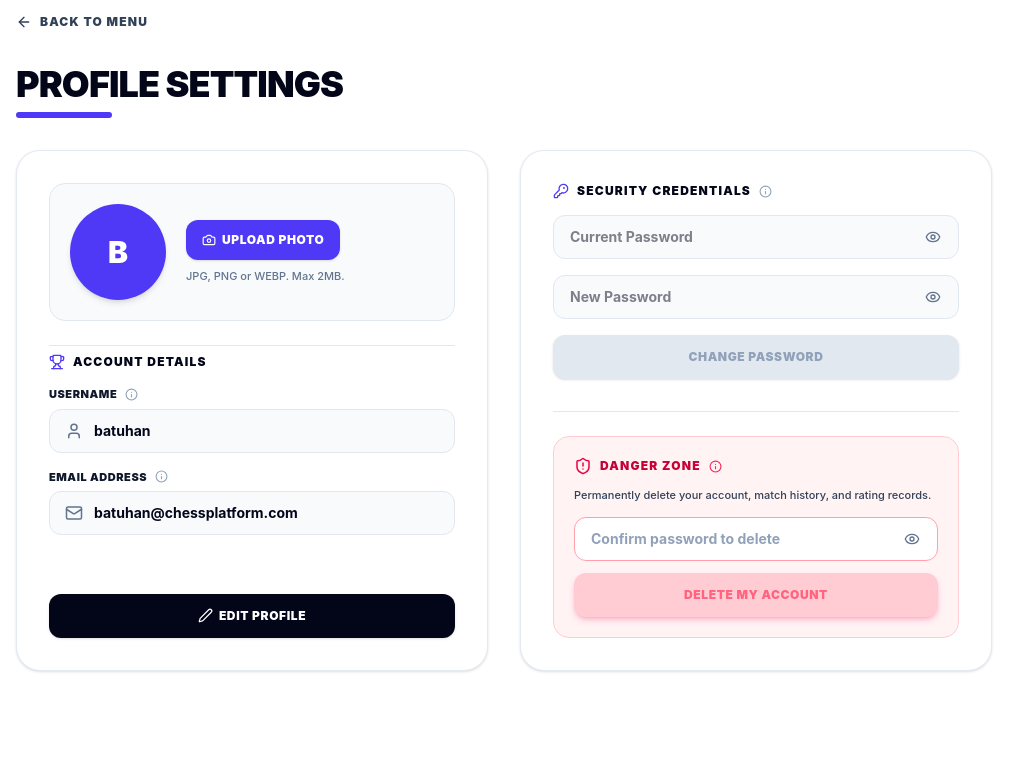
Test: ProfileDashboard Component › handles profile update failure and renders error banner
Expected: the field showing "batuhan" is shown, [49, 408, 455, 452]
Click the button "Edit Profile": [252, 616] box [49, 594, 455, 638]
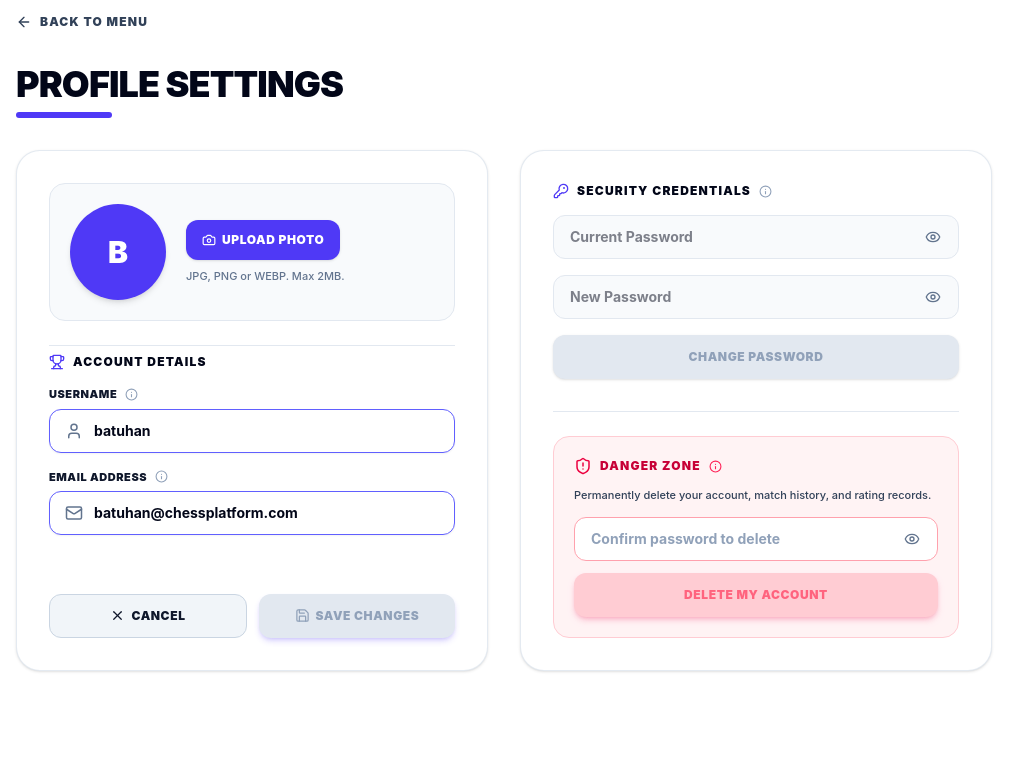
Replace the text in the field showing "batuhan" with "takenuser": [252, 430] box [49, 408, 455, 452]
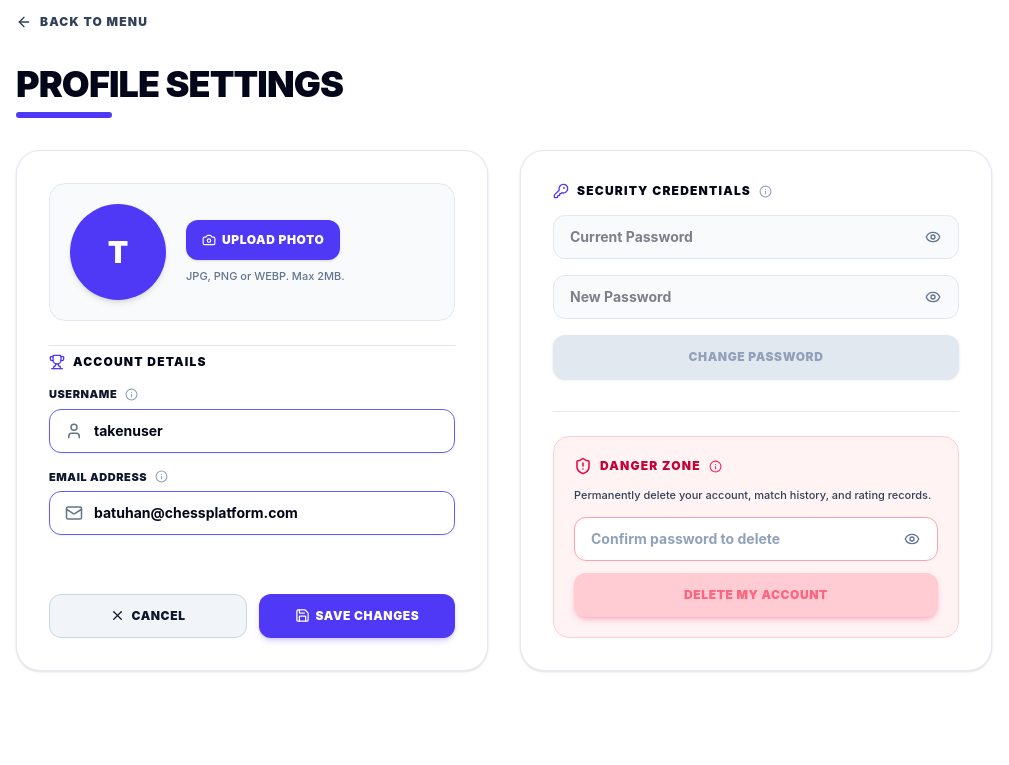
Click the button "Save Changes": [357, 616] box [259, 594, 455, 638]
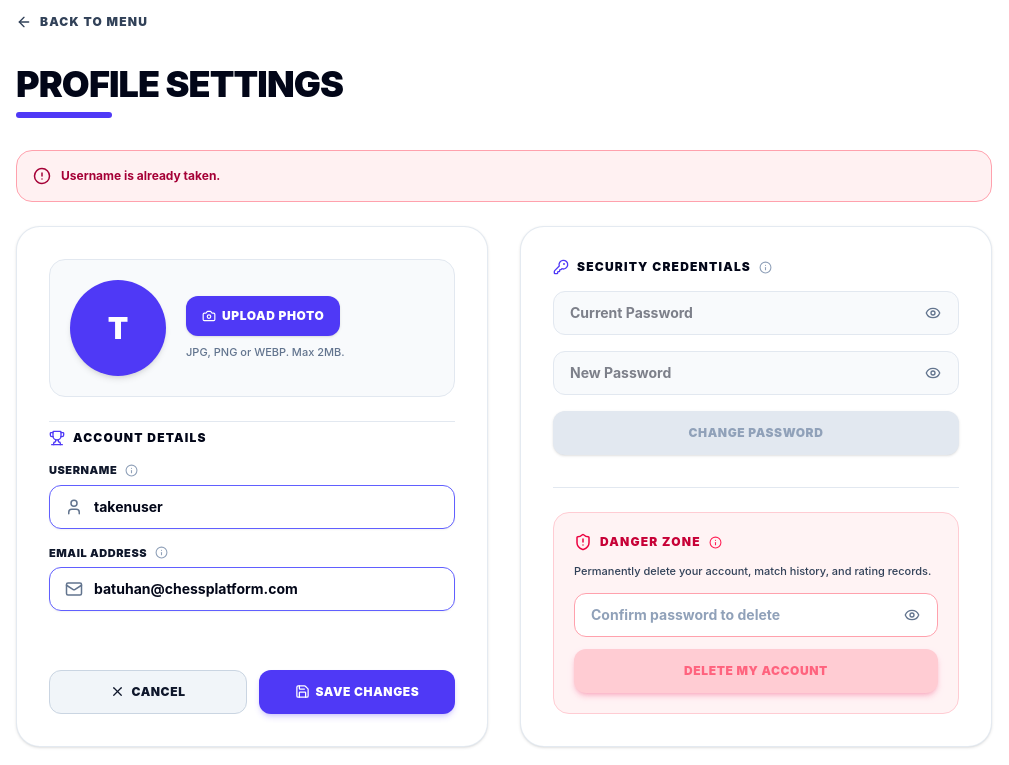
Expected: the text "Username is already taken." is shown, [61, 168, 220, 184]
